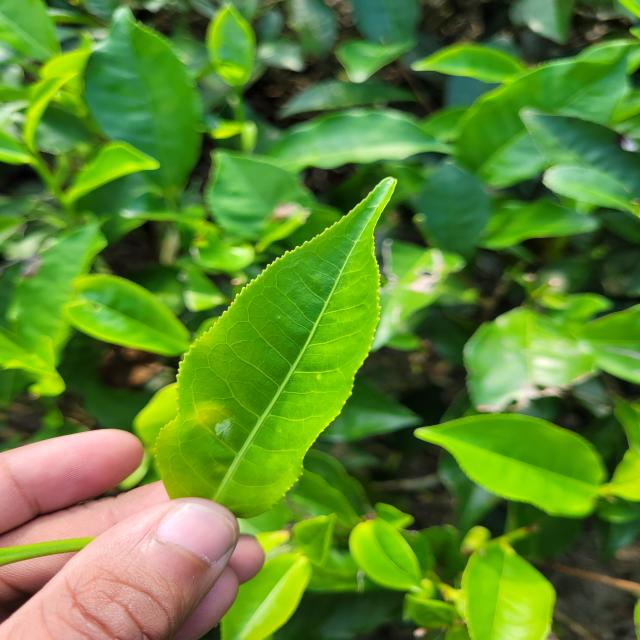Category B 2-4 days: (106, 146, 424, 554)
